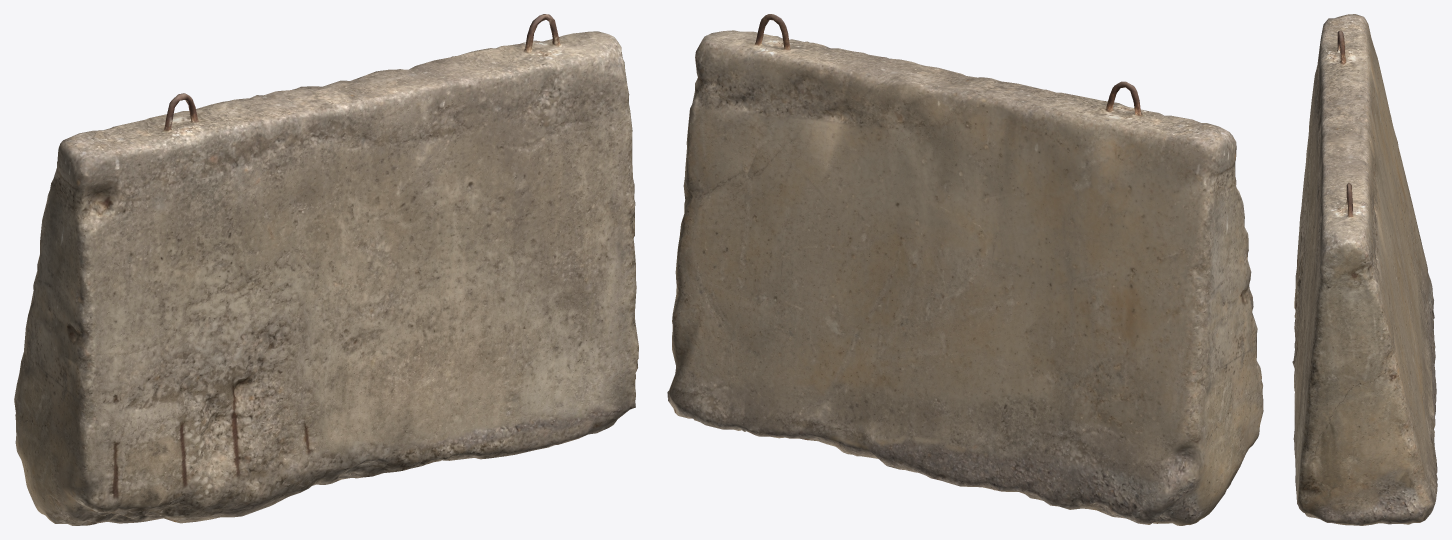
Rendered from concrete_road_barrier_02_1k.gltf.
The picture shows the model from 3 angles, left to right: view 1: azimuth 30°, elevation 25°; view 2: azimuth 150°, elevation 25°; view 3: azimuth 270°, elevation 25°; orthographic projection. The views are drawn at different scales.
Parts seen in each view (by area): view 1: concrete_road_barrier_02; view 2: concrete_road_barrier_02; view 3: concrete_road_barrier_02.
Boxes of the visible parts, x1,y1,x2,y2 form: concrete_road_barrier_02: (14, 14, 638, 525); concrete_road_barrier_02: (667, 14, 1263, 525); concrete_road_barrier_02: (1292, 14, 1437, 525).
Size of the model in its own units: 1.57 by 1.11 by 0.4421.
Materials: 1 (1 with a texture image).
